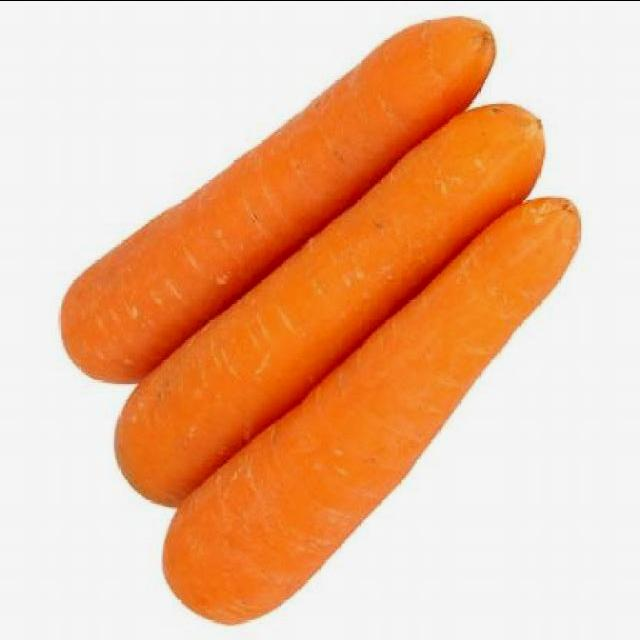carrot: (161, 193, 587, 622), (110, 102, 552, 508), (57, 11, 500, 382)
